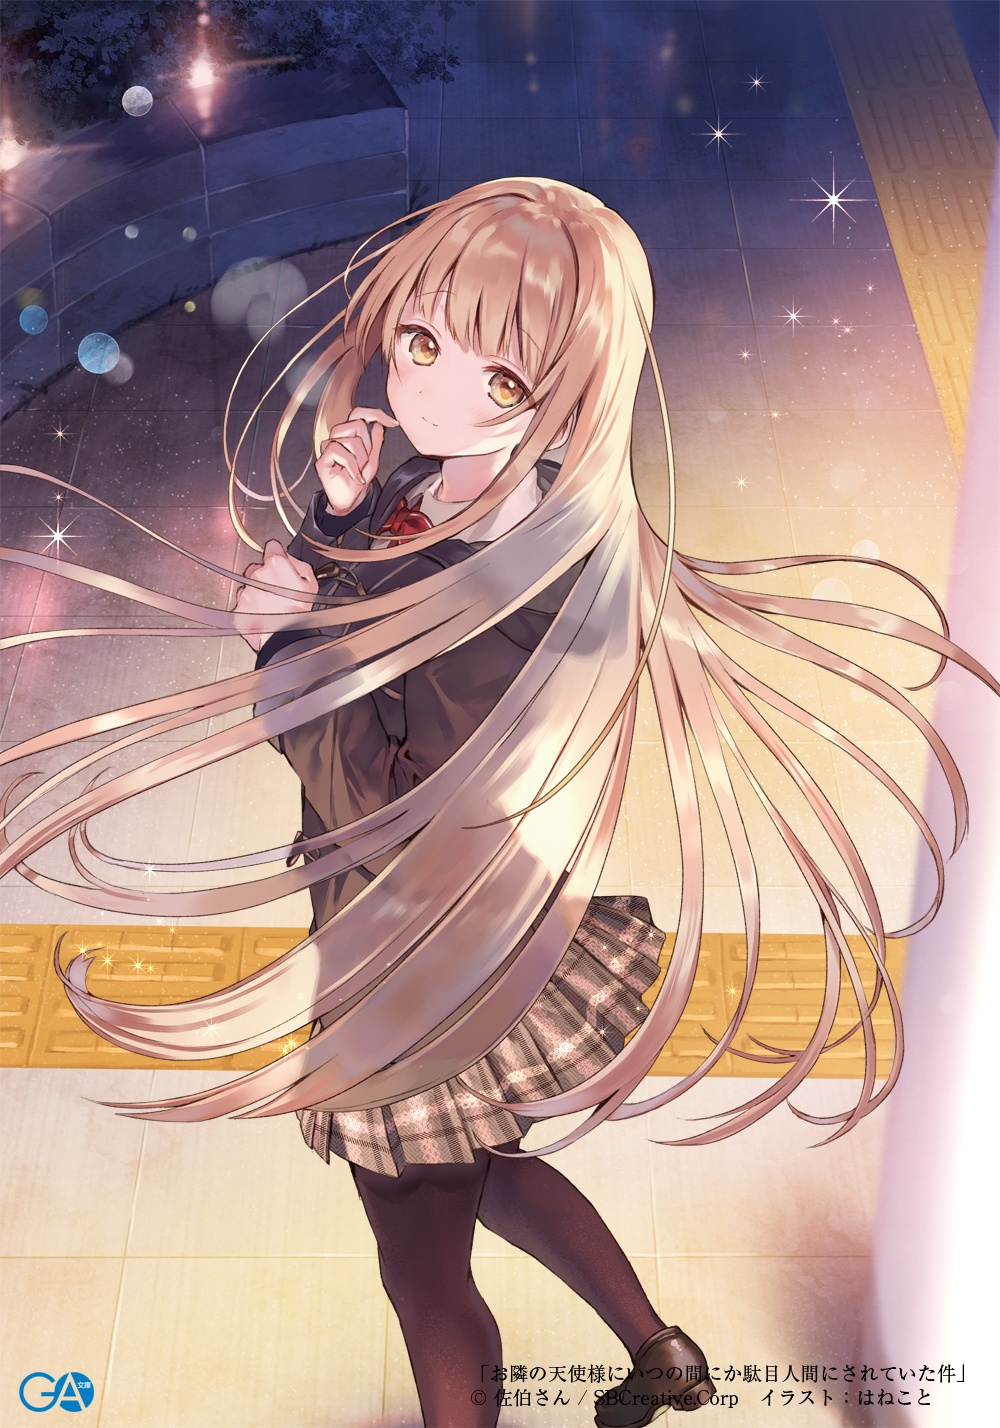纸片人正脸: (346, 167, 665, 474)
